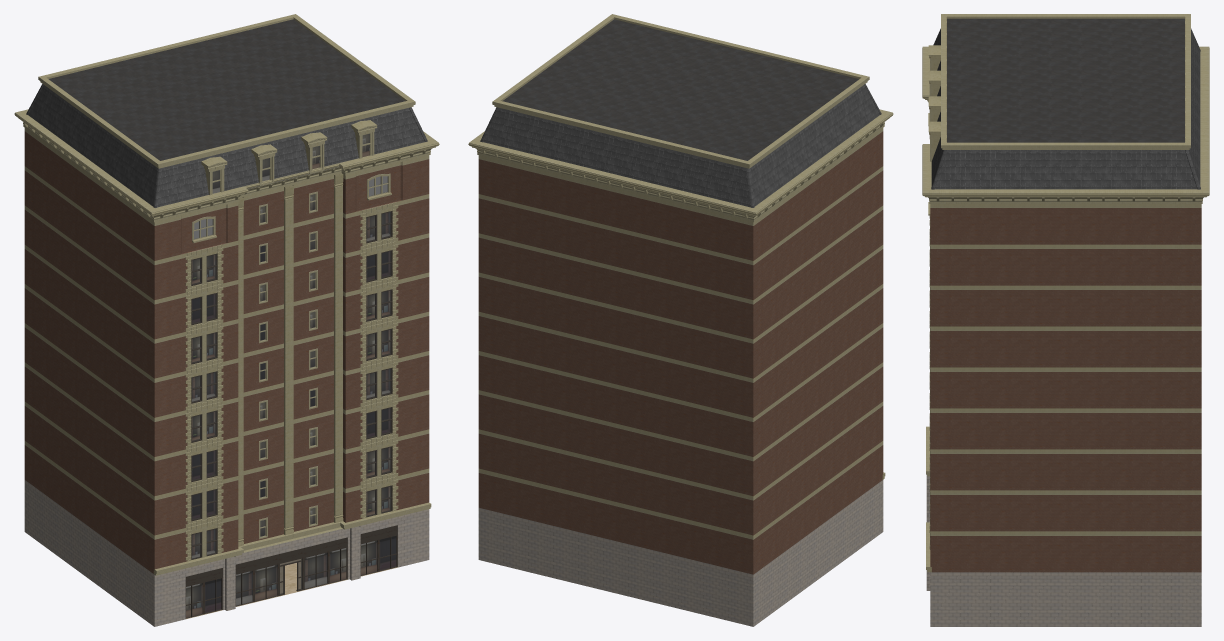
Rendered from Building_Large_3.gltf.
The picture shows the model from 3 angles, left to right: view 1: azimuth 30°, elevation 25°; view 2: azimuth 150°, elevation 25°; view 3: azimuth 270°, elevation 25°; orthographic projection. The views are drawn at different scales.
Visible parts, largest first — view 1: Building_Large_3; view 2: Building_Large_3; view 3: Building_Large_3.
Part boxes in pixels (x1,y1,x2,y2): Building_Large_3: (14,14,439,626); Building_Large_3: (468,14,893,626); Building_Large_3: (922,14,1209,626).
Bounding box in the file's own units: 23.06 × 34.95 × 19.06.
14 materials, 12 textured.
